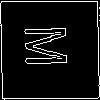M: (24, 25, 78, 67)
